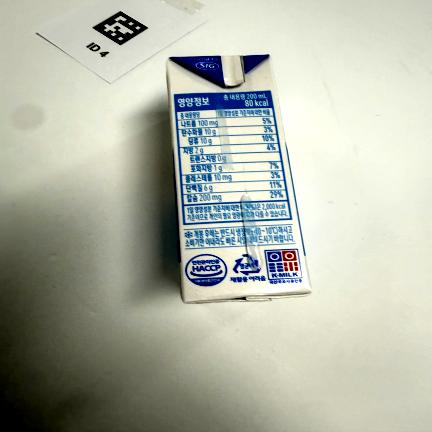milk_blue: (167, 55, 311, 303)
